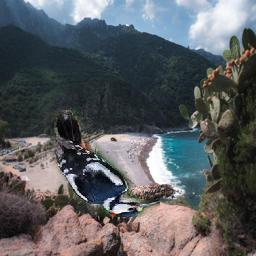Woodpecker: (50, 111, 160, 218)
